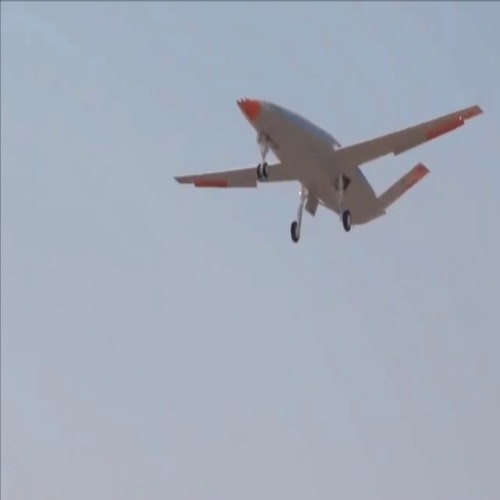uav: (170, 95, 486, 246)
